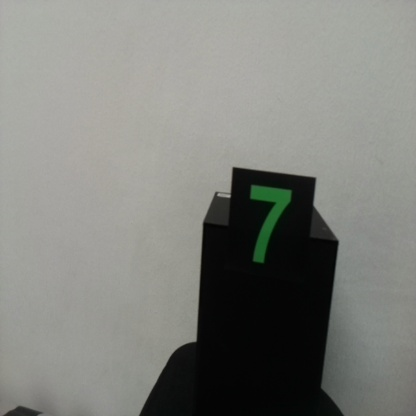id_7: (232, 169, 314, 303)
